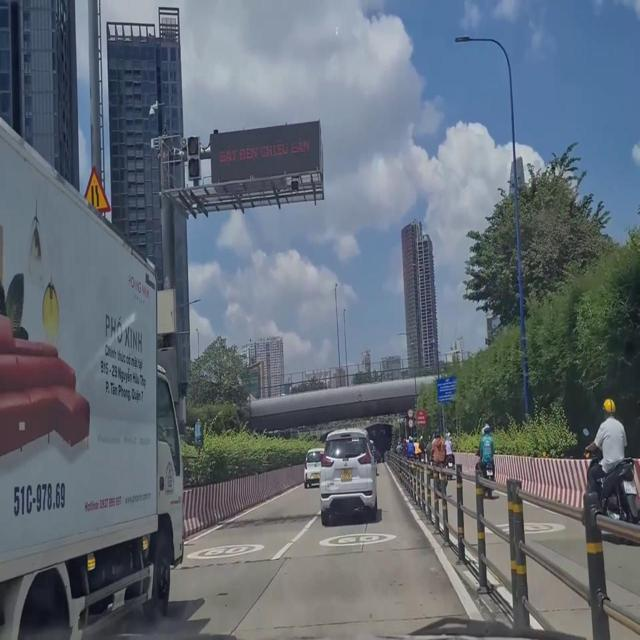Khác: (435, 368, 462, 403)
Đường hẹp: (76, 164, 110, 215)
